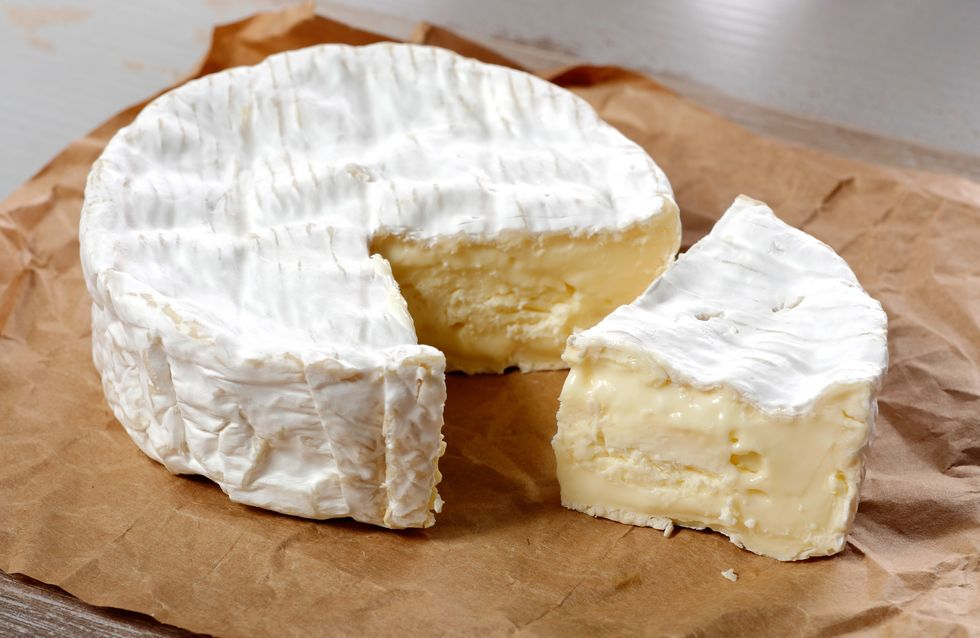camembert: (71, 36, 899, 556)
